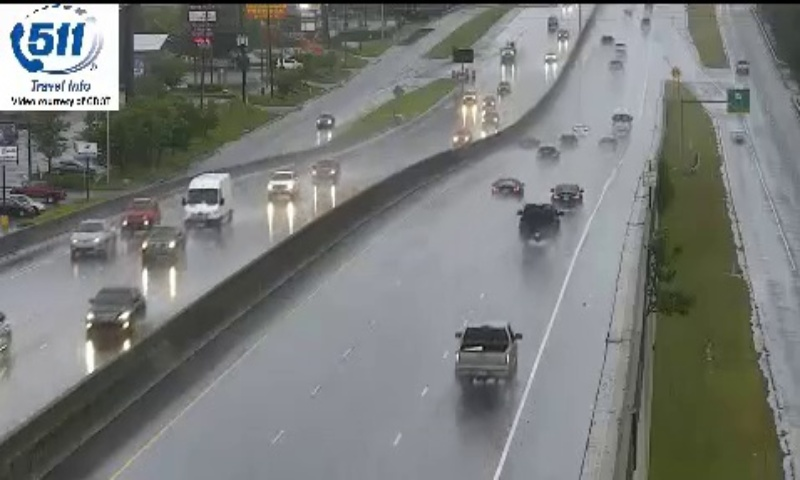car: (455, 321, 517, 379), (518, 203, 558, 240), (490, 177, 523, 201), (552, 183, 582, 209)
